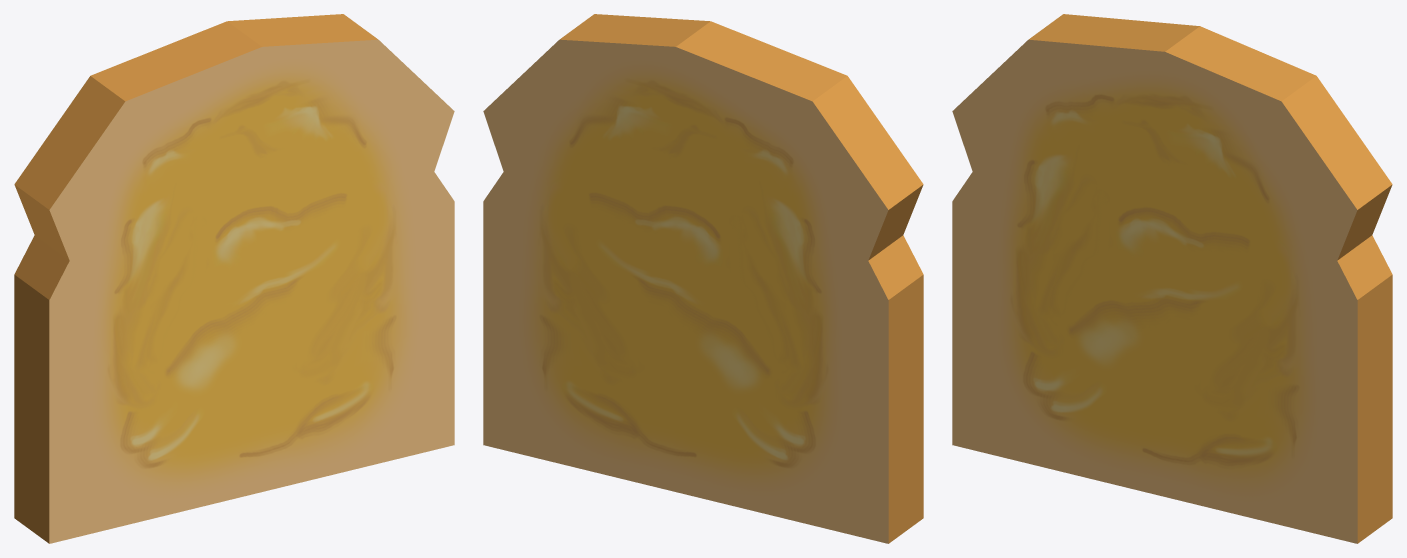
The model's file is buttered-bread.glb.
3 views of the same model, side by side, from view 1: azimuth 30°, elevation 25°; view 2: azimuth 150°, elevation 25°; view 3: azimuth 330°, elevation 25° (orthographic).
Parts seen in each view (by area): view 1: Node; view 2: Node; view 3: Node.
Boxes of the visible parts, bbox=[...] form: Node: bbox=[14, 14, 454, 543]; Node: bbox=[483, 14, 923, 543]; Node: bbox=[952, 14, 1392, 543].
Bounding box in the file's own units: 0.2 × 0.21 × 0.03.
2 materials, 1 textured.
